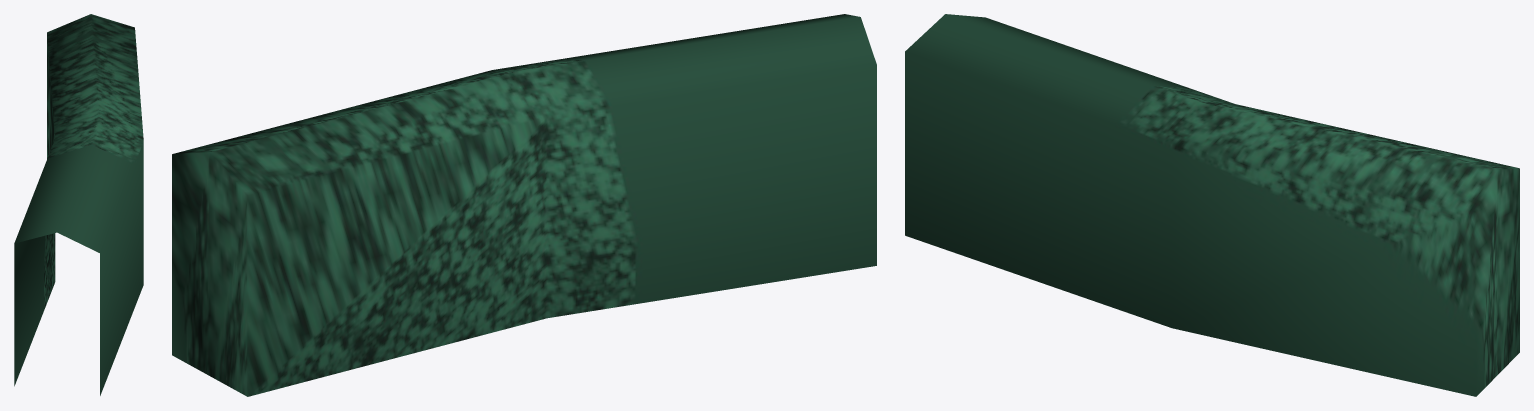
The model's file is Ring23.fbx.
3 views of the same model, side by side, from view 1: azimuth 30°, elevation 25°; view 2: azimuth 150°, elevation 25°; view 3: azimuth 270°, elevation 25° (orthographic). The views are drawn at different scales.
Parts seen in each view (by area): view 1: Ring23; view 2: Ring23; view 3: Ring23.
Boxes of the visible parts, x1,y1,x2,y2 form: Ring23: (14,14,143,395); Ring23: (172,14,876,396); Ring23: (905,14,1519,396).
Size of the model in its own units: 819 by 400 by 1089.
